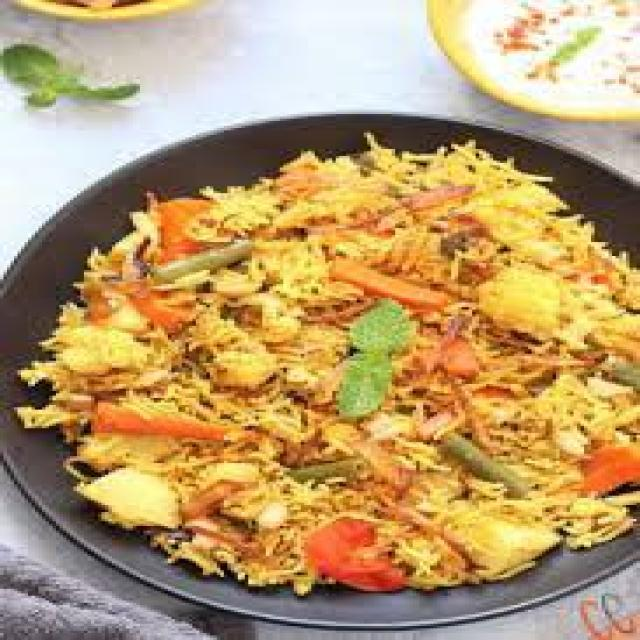veg biryani: (107, 200, 636, 592)
